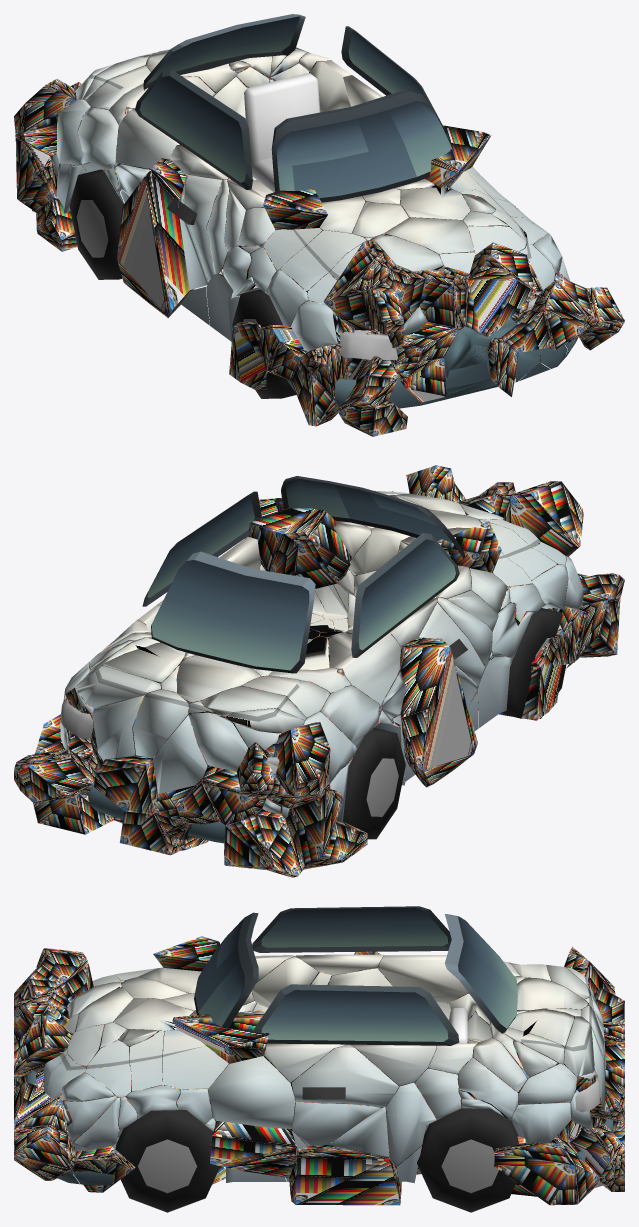
File: car.fbx
3 renders of one model, top to bottom at view 1: azimuth 30°, elevation 25°; view 2: azimuth 150°, elevation 25°; view 3: azimuth 270°, elevation 25°, orthographic. The views are drawn at different scales.
Visible parts, largest first — view 1: kinh_a_1, kinh_a_2, Car_Body_Top_color_cell.129, Seat_4.002, BANH XE.003, Car_Body_Top_color_cell.201, Car_Body_Top_color_cell.290, Car_Body_Top_color_cell.248, Car_Body_Top_color_cell.087, Car_Body_Top_color_cell.235, Car_Body_Top_color_cell.174, Car_Body_Top_color_cell.244 (+59 smaller); view 2: kinh_a_1, kinh_a_2, Car_Body_Top_color_cell.129, Car_Body_Top_color_cell.186, BANH XE.003, Car_Body_Top_color_cell.290, Car_Body_Top_color_cell.223, Car_Body_Top_color_cell.260, Car_Body_Top_color_cell.298, BANH XE.002, Car_Body_Top_color_cell.226, Car_Body_Top_color_cell.326 (+59 smaller); view 3: kinh_a_2, kinh_a_1, BANH XE.004, BANH XE.005, Car_Body_Top_color_cell.167, Car_Body_Top_color_cell.107, Car_Body_Top_color_cell.273, Car_Body_Top_color_cell.153, Car_Body_Top_color_cell.128, Car_Body_Top_color_cell.186, Car_Body_Top_color_cell.122, Car_Body_Top_color_cell.043 (+63 smaller).
Boxes of the visible parts, x1,y1,x2,y2 form: kinh_a_1: [143, 14, 452, 202]; kinh_a_2: [135, 26, 443, 189]; Car_Body_Top_color_cell.129: [117, 158, 193, 317]; Seat_4.002: [244, 73, 320, 192]; BANH XE.003: [69, 169, 123, 279]; Car_Body_Top_color_cell.201: [287, 318, 518, 410]; Car_Body_Top_color_cell.290: [323, 239, 395, 330]; Car_Body_Top_color_cell.248: [465, 266, 535, 338]; Car_Body_Top_color_cell.087: [340, 282, 404, 360]; Car_Body_Top_color_cell.235: [280, 230, 366, 290]; Car_Body_Top_color_cell.174: [116, 108, 180, 169]; Car_Body_Top_color_cell.244: [413, 269, 465, 330]; kinh_a_1: [151, 476, 464, 673]; kinh_a_2: [142, 491, 459, 657]; Car_Body_Top_color_cell.129: [390, 637, 477, 787]; Car_Body_Top_color_cell.186: [245, 498, 351, 588]; BANH XE.003: [343, 727, 405, 839]; Car_Body_Top_color_cell.290: [503, 481, 583, 564]; Car_Body_Top_color_cell.223: [267, 722, 330, 797]; Car_Body_Top_color_cell.260: [14, 748, 96, 802]; Car_Body_Top_color_cell.298: [94, 753, 157, 813]; BANH XE.002: [491, 608, 566, 718]; Car_Body_Top_color_cell.226: [153, 715, 207, 793]; Car_Body_Top_color_cell.326: [94, 788, 342, 865]; kinh_a_2: [252, 906, 459, 1045]; kinh_a_1: [194, 912, 517, 1033]; BANH XE.004: [115, 1110, 220, 1212]; BANH XE.005: [417, 1108, 518, 1212]; Car_Body_Top_color_cell.167: [289, 1144, 401, 1205]; Car_Body_Top_color_cell.107: [208, 1056, 295, 1128]; Car_Body_Top_color_cell.273: [291, 1044, 398, 1106]; Car_Body_Top_color_cell.153: [209, 1121, 297, 1177]; Car_Body_Top_color_cell.128: [494, 1142, 575, 1205]; Car_Body_Top_color_cell.186: [172, 1010, 269, 1079]; Car_Body_Top_color_cell.122: [162, 1029, 228, 1088]; Car_Body_Top_color_cell.043: [386, 1081, 436, 1166].
Size of the model in its own units: 143 by 105 by 273.
